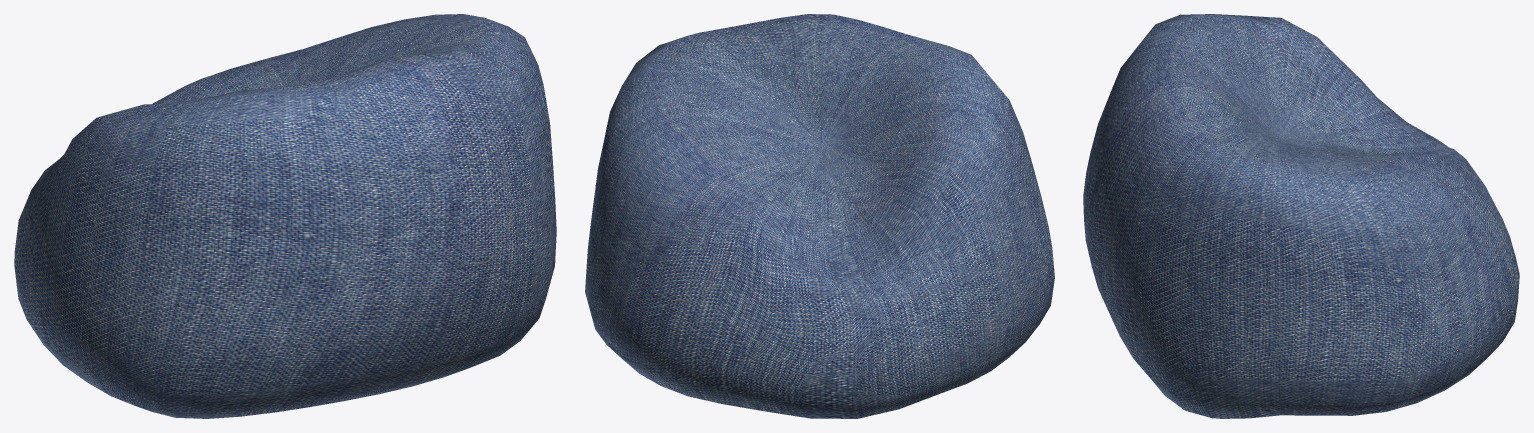
File: Bean_Bag_3_Textured.fbx
The picture shows the model from 3 angles, left to right: view 1: azimuth 30°, elevation 25°; view 2: azimuth 150°, elevation 25°; view 3: azimuth 270°, elevation 25°; orthographic projection. The views are drawn at different scales.
Visible parts, largest first — view 1: nurbsToPoly2; view 2: nurbsToPoly2; view 3: nurbsToPoly2.
Boxes of the visible parts, x1=… form: nurbsToPoly2: x1=14, y1=14, x2=556, y2=418; nurbsToPoly2: x1=585, y1=14, x2=1054, y2=418; nurbsToPoly2: x1=1083, y1=14, x2=1519, y2=418.
Bounding box in the file's own units: 1.02 × 0.6801 × 0.9314.
1 material, 1 textured.
